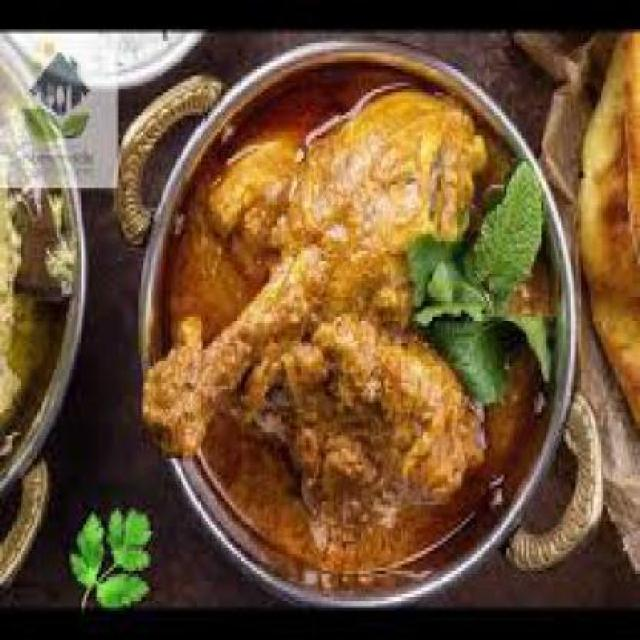CHICKEN CURRY: (143, 80, 558, 567)
